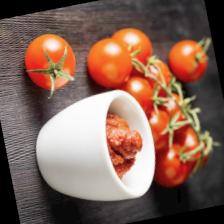tomato: (18, 29, 82, 96), (82, 31, 146, 92), (165, 35, 216, 85)
